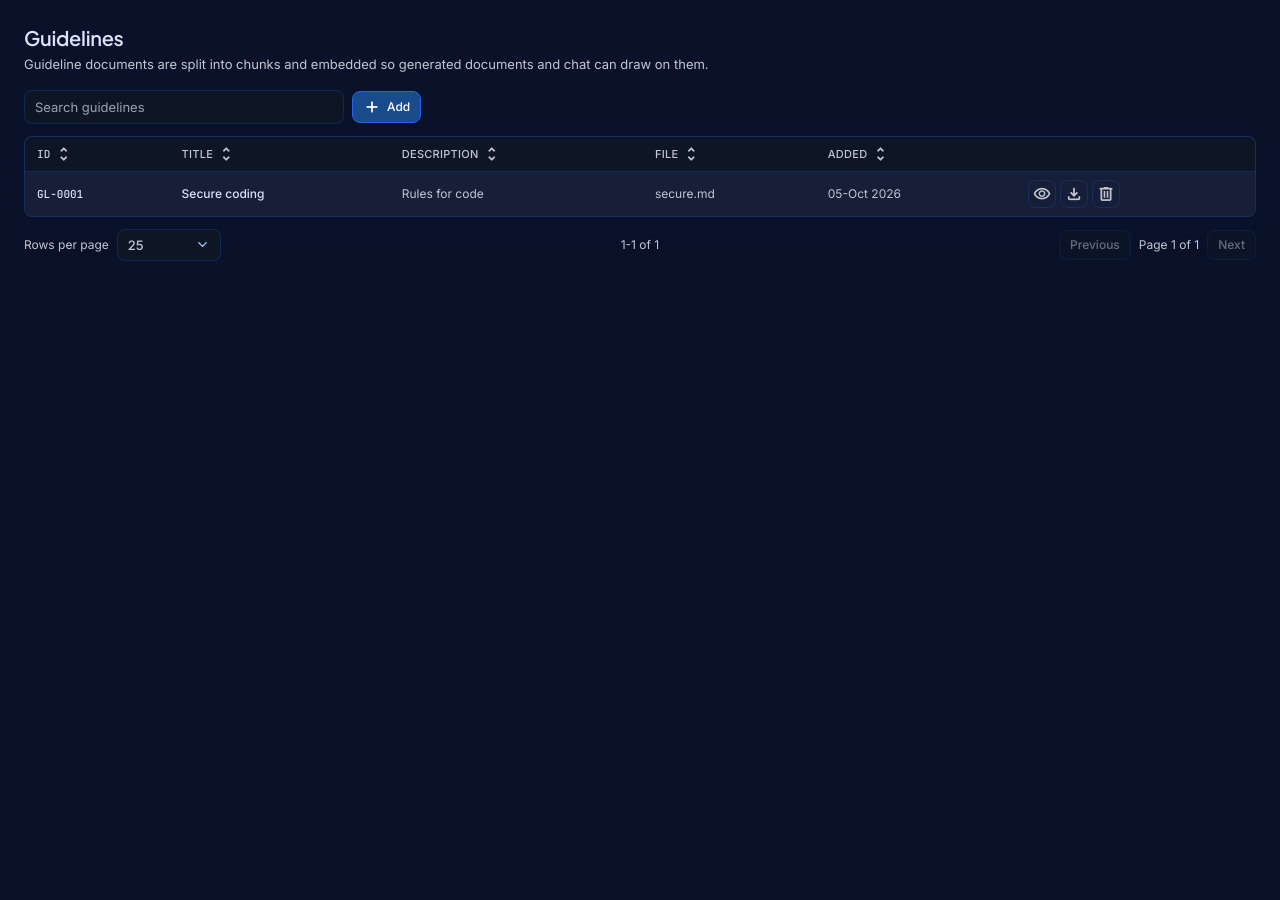
Test: preview opens markdown content from the inline download URL
The image size is (1280, 900).
Expected: the text "Secure coding" is shown, [170,172,390,216]
Click the button named "Preview Secure coding": {"x": 1042, "y": 194} [1028,180,1056,208]
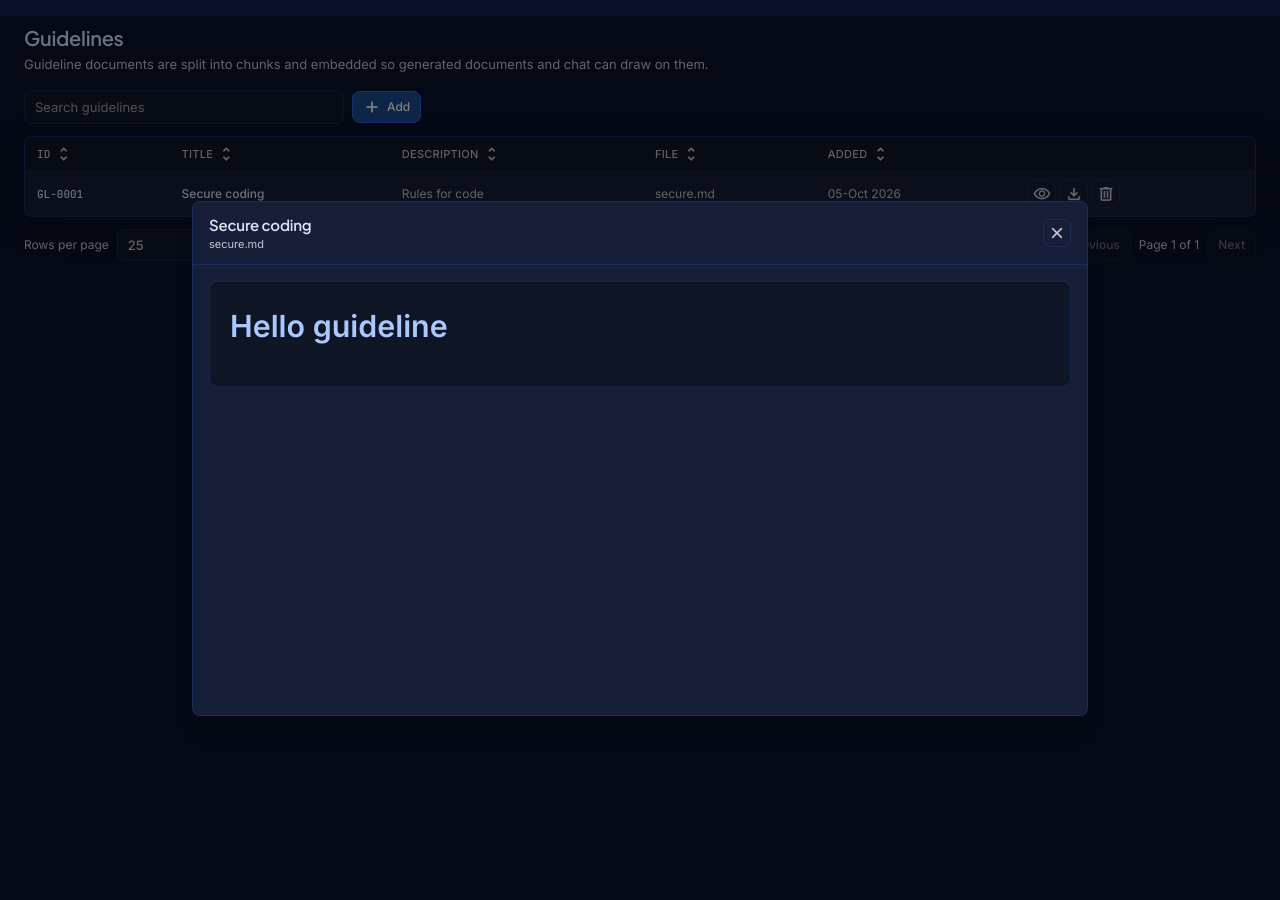
Expected: the element named "Rendered markdown" is shown, [209,280,1071,387]
Expected: the heading "Hello guideline" is shown, [230,308,448,344]
